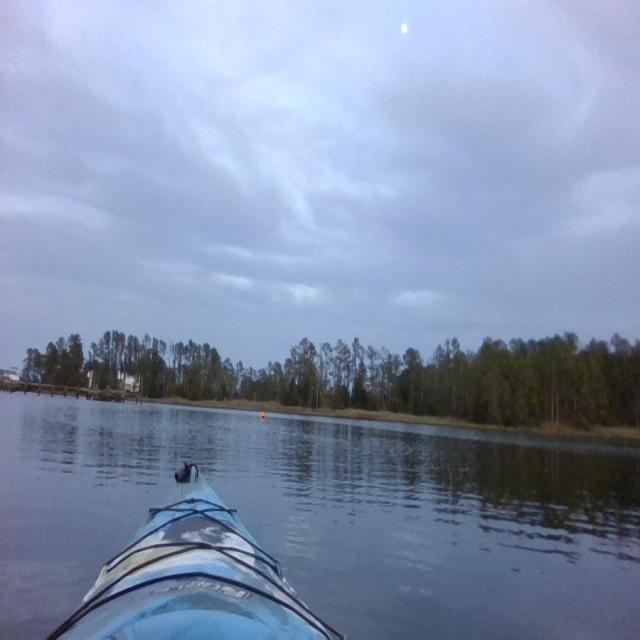Buoy: (260, 410, 266, 421)
